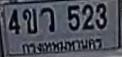2: (82, 3, 93, 29)
3: (95, 2, 106, 28)
4: (8, 8, 19, 34)
5: (67, 4, 79, 30)
A02: (22, 8, 36, 33)
A37: (39, 7, 54, 31)
BKK: (20, 37, 105, 54)
